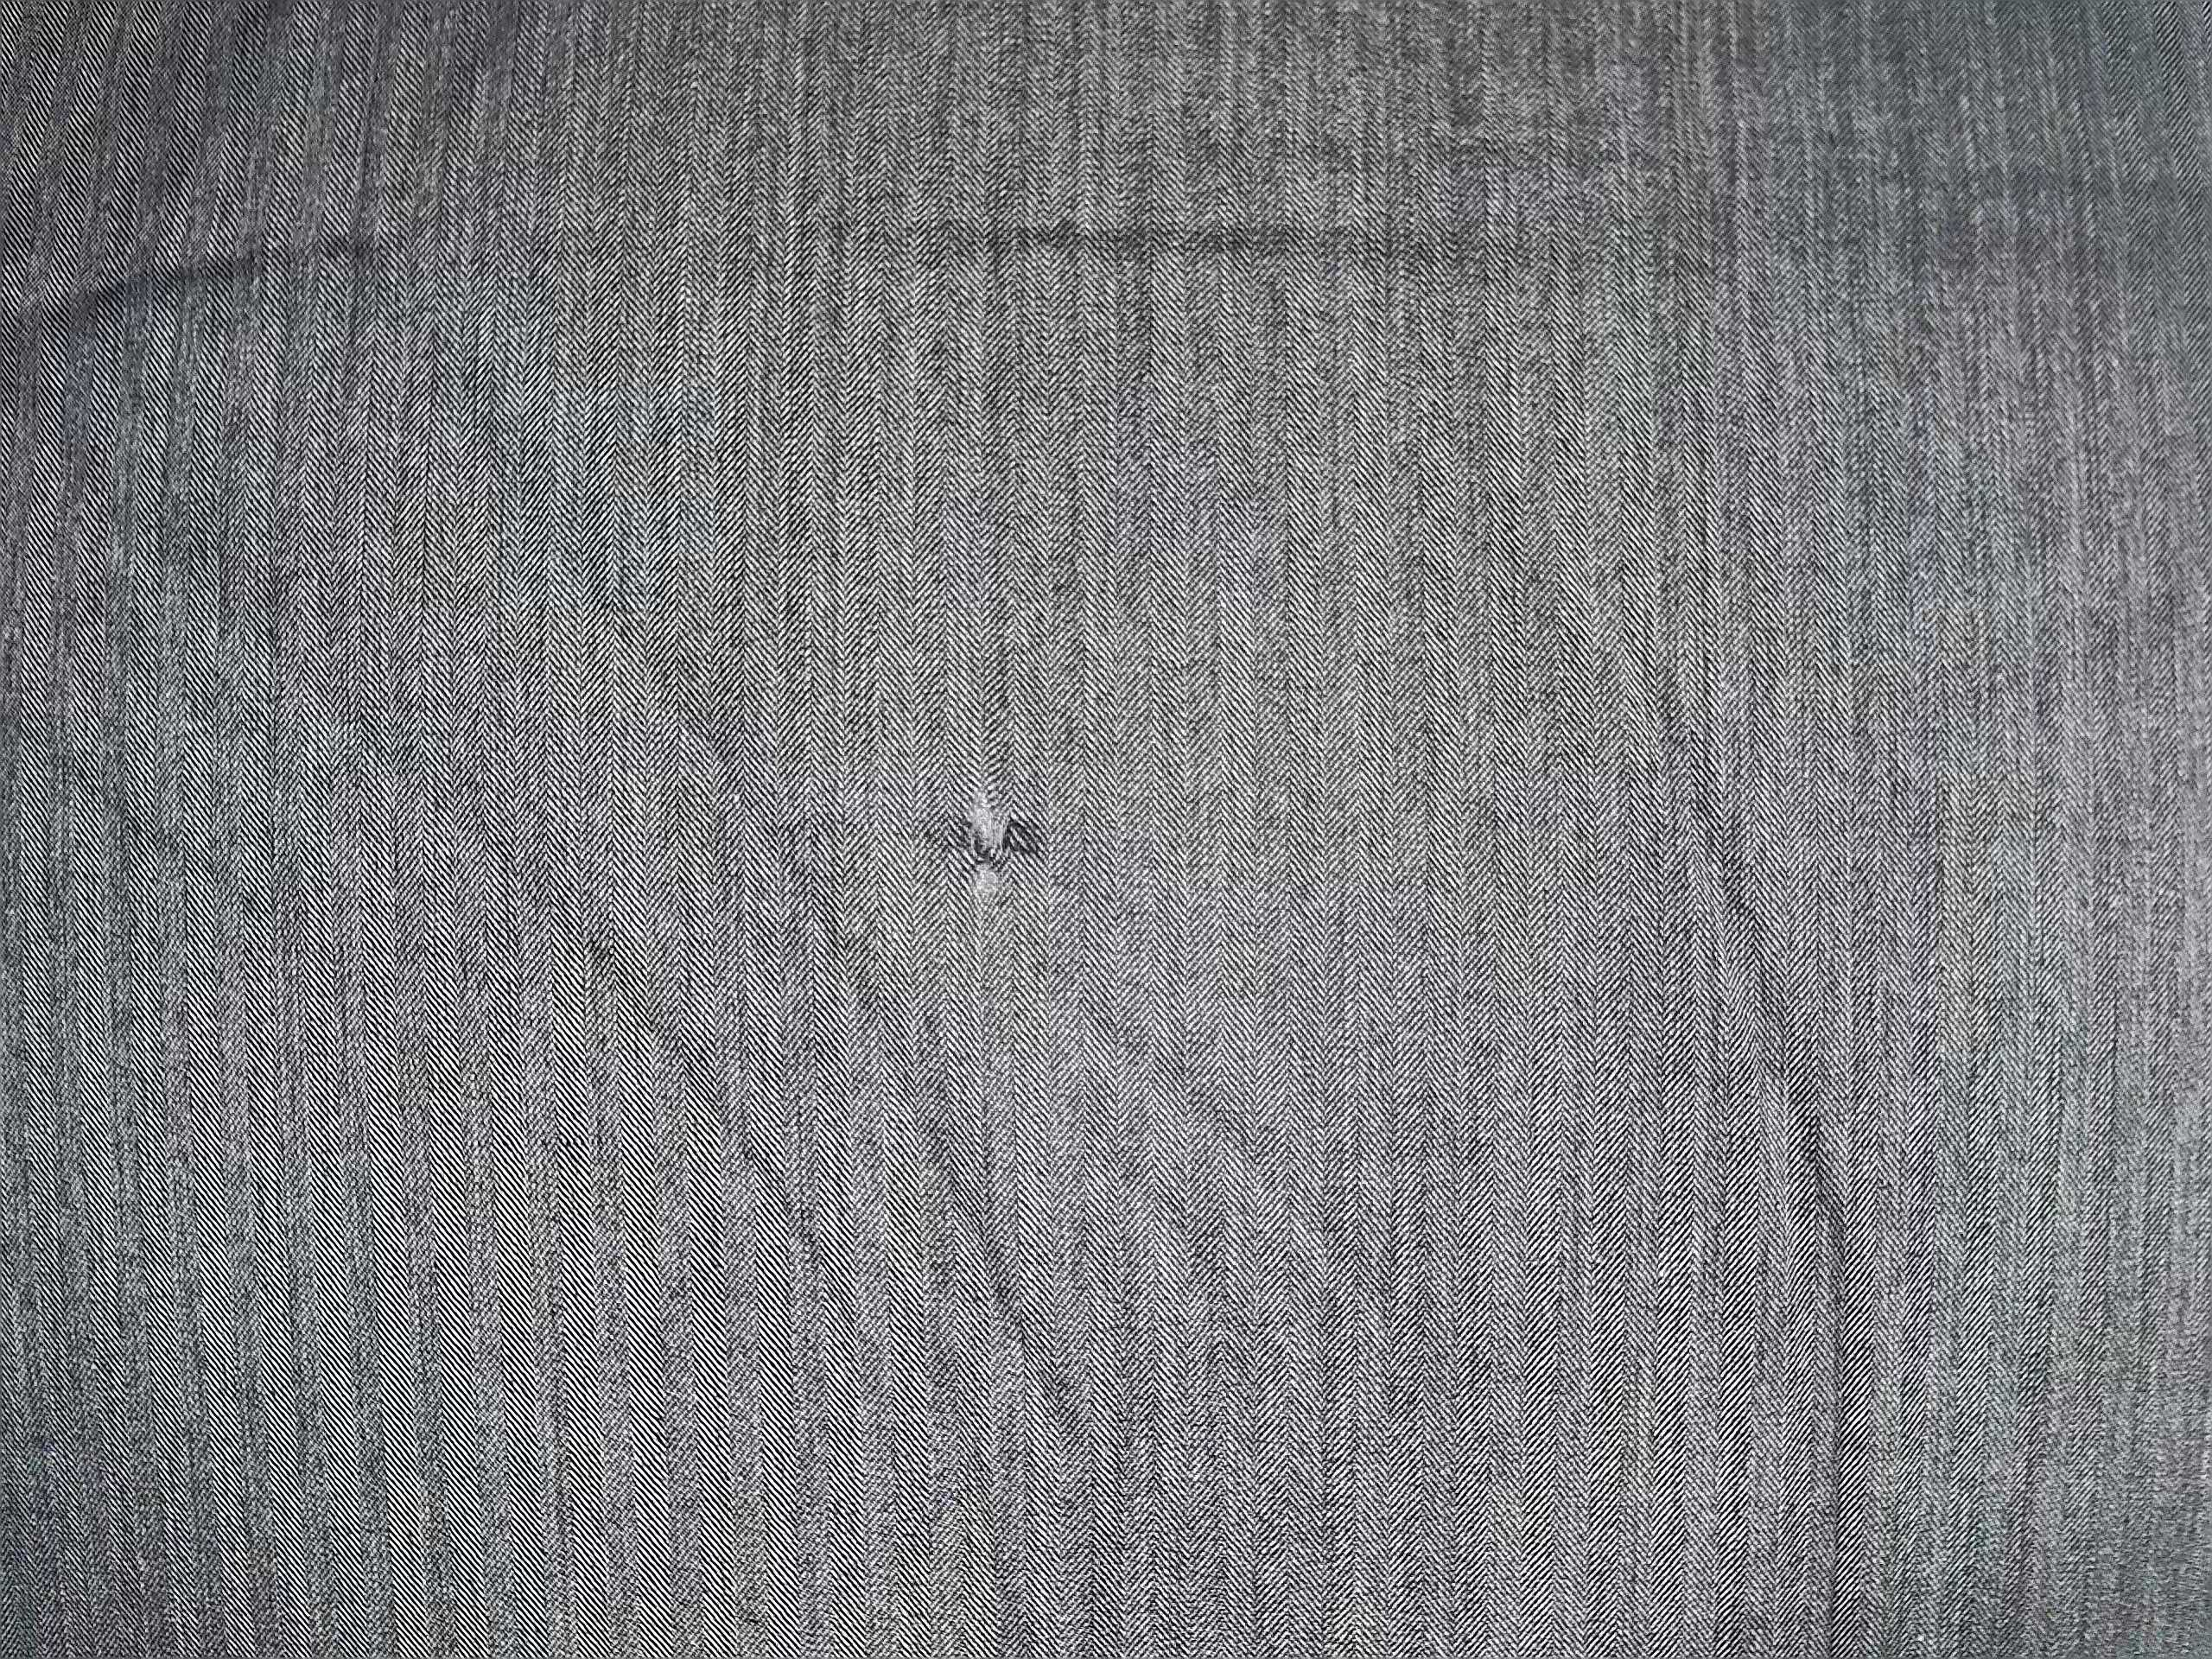knots: (902, 772, 1080, 924)
